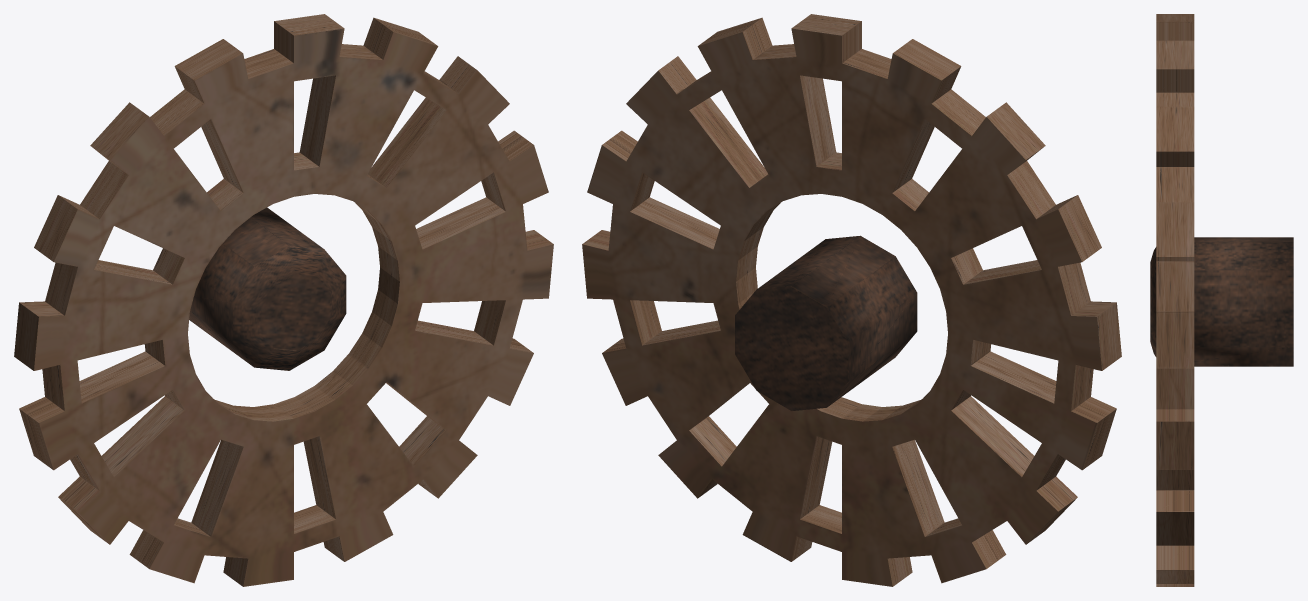
File: Cog1.fbx
The picture shows the model from 3 angles, left to right: view 1: azimuth 30°, elevation 25°; view 2: azimuth 150°, elevation 25°; view 3: azimuth 270°, elevation 25°; orthographic projection. The views are drawn at different scales.
Visible parts, largest first — view 1: Cog1; view 2: Cog1; view 3: Cog1.
Boxes of the visible parts, <box> form: Cog1: <box>14,14,553,586</box>; Cog1: <box>582,14,1121,586</box>; Cog1: <box>1150,14,1293,586</box>.
Bounding box in the file's own units: 18.32 × 18.32 × 4.59.
